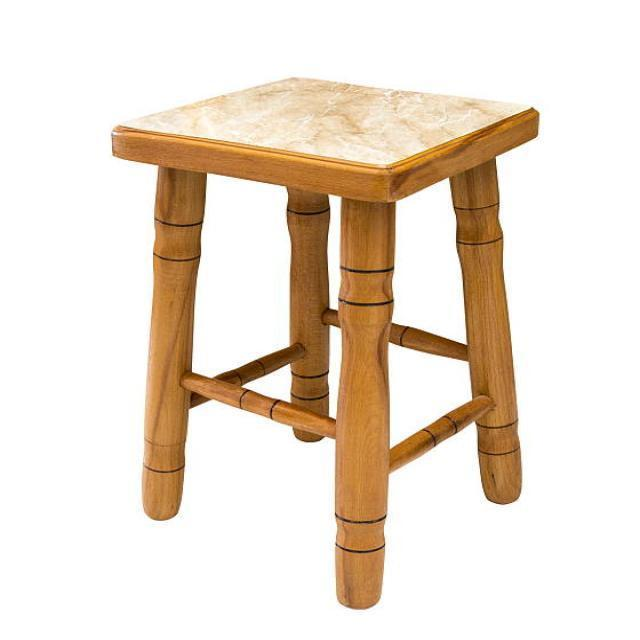table: (110, 75, 540, 610)
